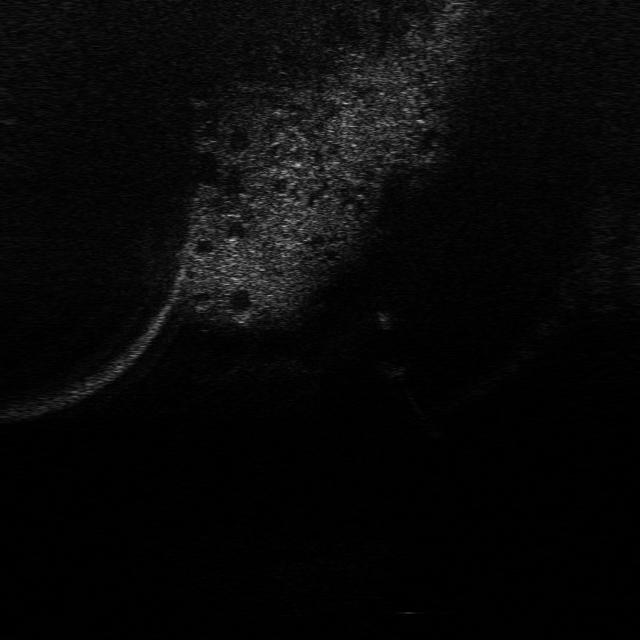cube: (369, 357, 407, 381)
cylinder: (369, 304, 397, 334)
